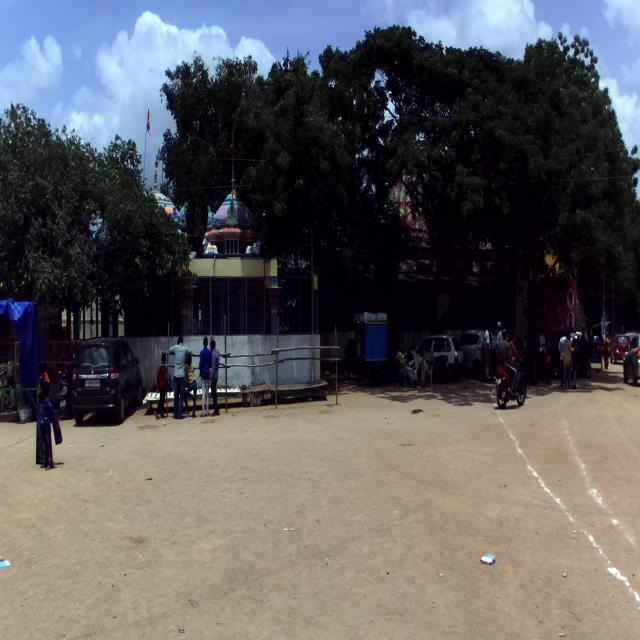Car_Maruti-Suzuki: (67, 337, 144, 423), (403, 332, 464, 381)
motorcycle_Hero: (494, 354, 528, 409)
